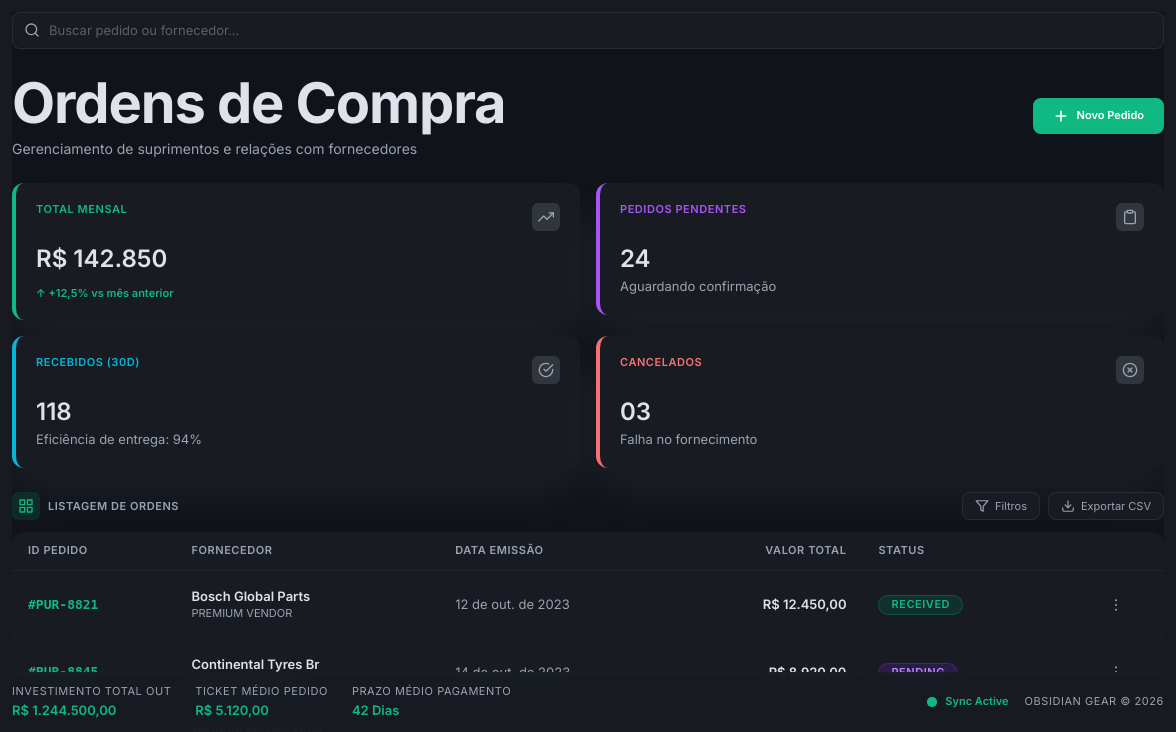
PurchasesPage — 4.x Busca e filtros integrados › 4.2 — clicar em "Filtros" abre o painel de filtros
What coordinates should you click on to do the following:
click the button with aria-label "abrir filtros"
I would click on:
 (1001, 506)
Its box is top-left (962, 492), bottom-right (1040, 520).
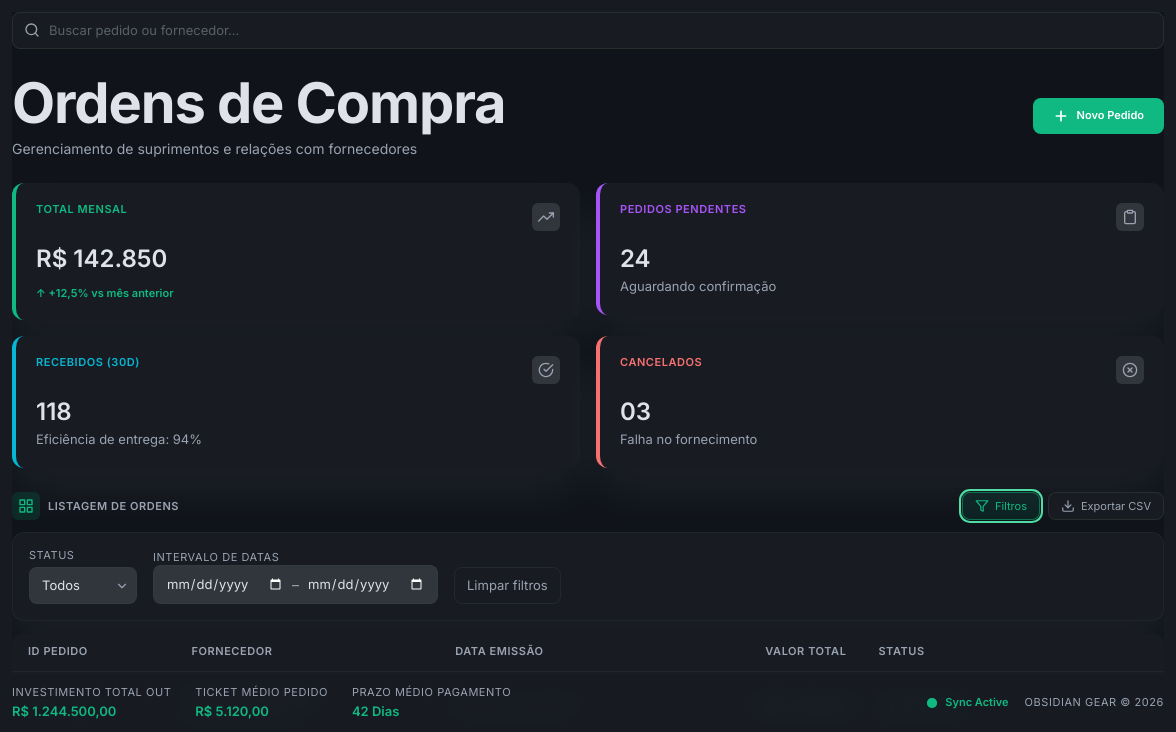
expect the element named "painel de filtros" is shown: met, box top-left (12, 532), bottom-right (1164, 621)
